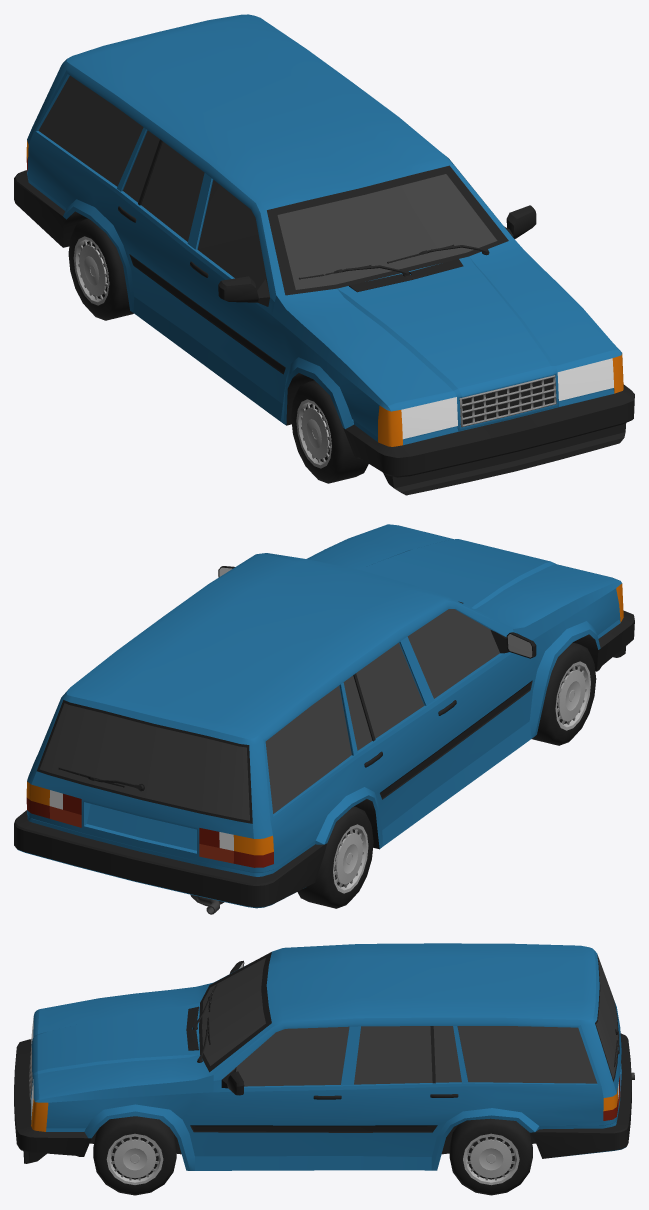
Rendered from car5.fbx.
3 renders of one model, top to bottom at view 1: azimuth 30°, elevation 25°; view 2: azimuth 150°, elevation 25°; view 3: azimuth 270°, elevation 25°, orthographic. The views are drawn at different scales.
Parts seen in each view (by area): view 1: 2.001; view 2: 2.001; view 3: 2.001.
Part boxes in pixels (<box>): 2.001: <box>14,14,634,495</box>; 2.001: <box>14,524,634,914</box>; 2.001: <box>14,943,634,1195</box>.
Bounding box in the file's own units: 213 × 136 × 454.
Materials: 1 (1 with a texture image).
